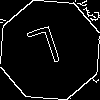L: (25, 25, 66, 77)
